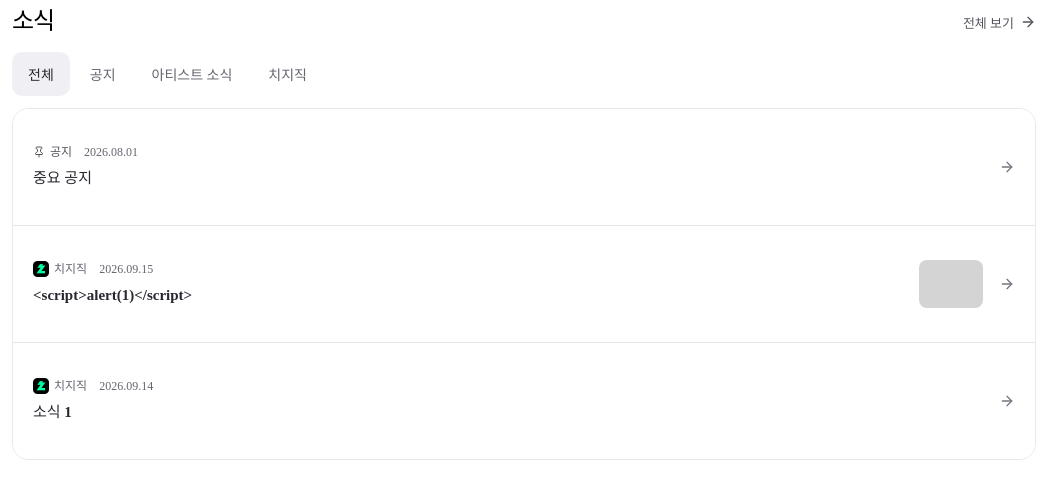
Test: creator news › filters before applying the home limit and carries the category into View all
This screenshot has width=1048, height=477.
Expected: the text "중요 공지" is shown, [33,170,92,186]
Click the button "치지직".
click(288, 74)  # box [252,52,323,96]
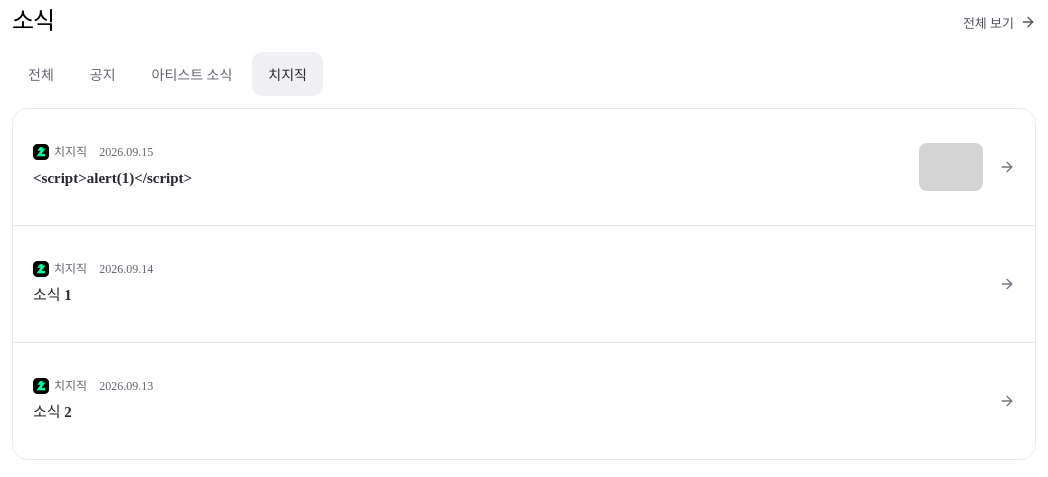
Expected: the number of list items is 3, [13,109,1035,225]; [13,225,1035,342]; [13,342,1035,459]
Expected: the link "중요 공지" is gone
Click the button "공지".
click(103, 74)  # box [74,52,132,96]
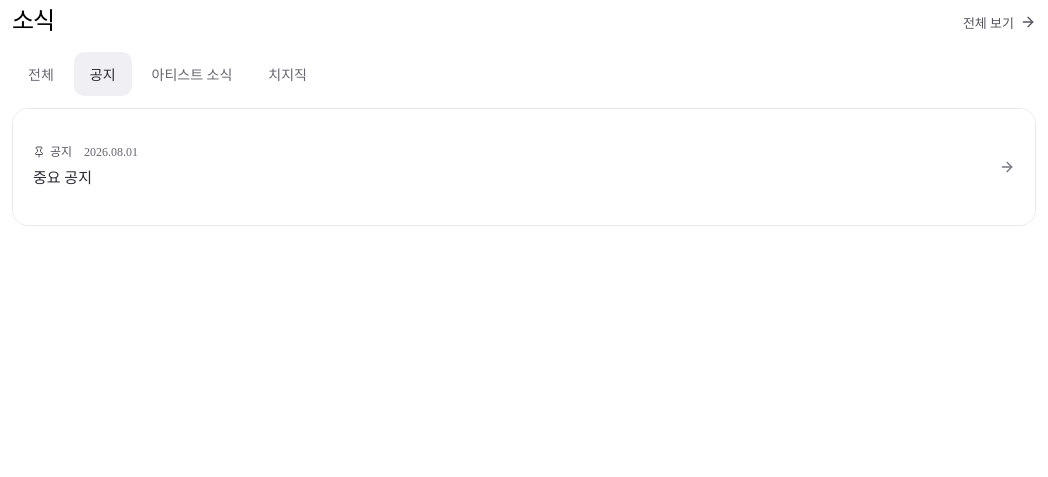
Expected: the number of list items is 1, [13,109,1035,225]
Expected: the text "중요 공지" is shown, [33,170,92,186]
